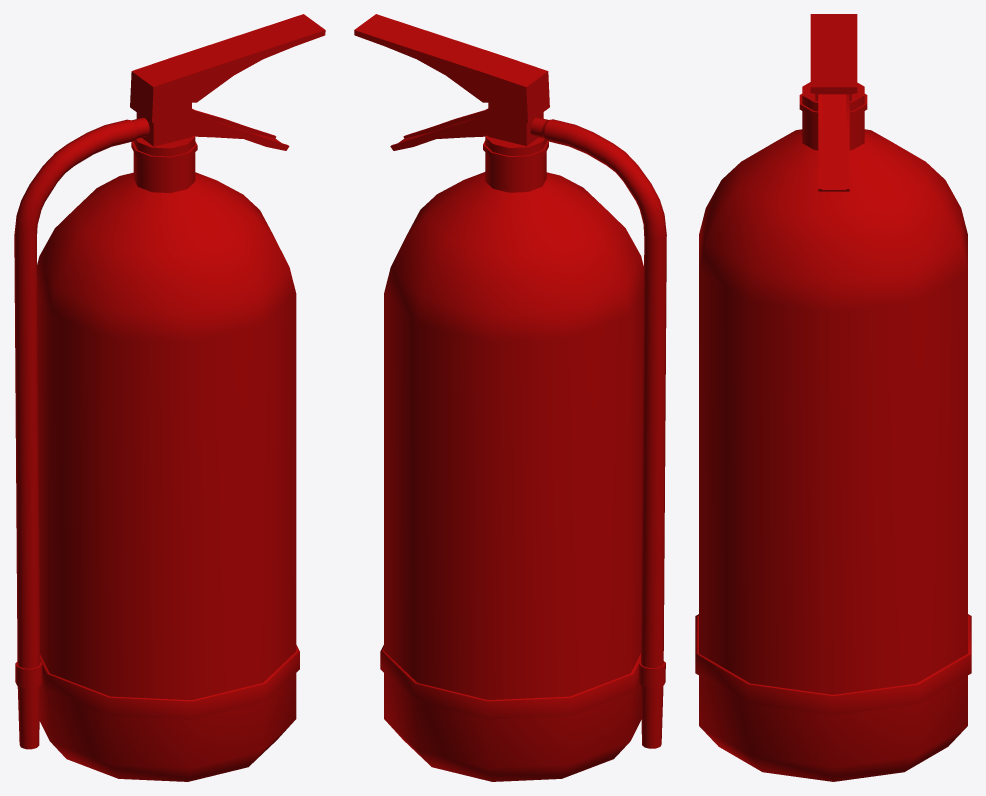
File: Extinguidor.fbx
The picture shows the model from 3 angles, left to right: view 1: azimuth 30°, elevation 25°; view 2: azimuth 150°, elevation 25°; view 3: azimuth 270°, elevation 25°; orthographic projection. The views are drawn at different scales.
Visible parts, largest first — view 1: Extinguidor; view 2: Extinguidor; view 3: Extinguidor.
Part boxes in pixels (x1=…): Extinguidor: x1=14, y1=14, x2=325, y2=781; Extinguidor: x1=354, y1=14, x2=666, y2=781; Extinguidor: x1=695, y1=14, x2=971, y2=781.
Size of the model in its own units: 0.3307 by 0.7138 by 0.2478.
